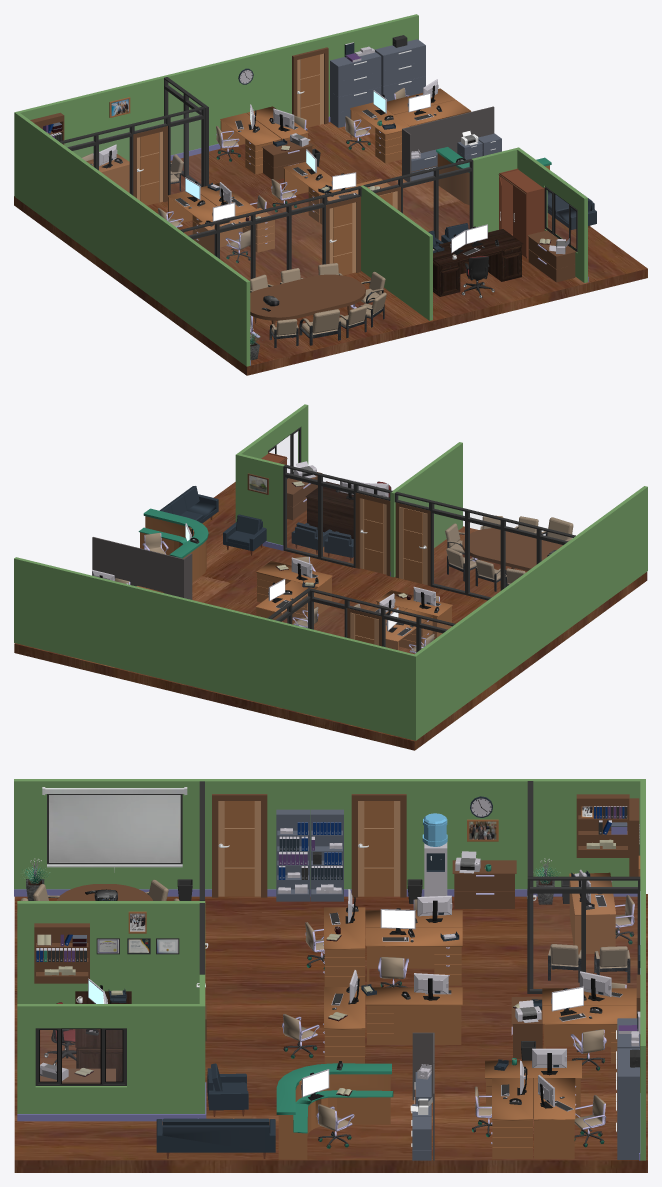
The model's file is office.glb.
3 renders of one model, top to bottom at view 1: azimuth 30°, elevation 25°; view 2: azimuth 150°, elevation 25°; view 3: azimuth 270°, elevation 25°, orthographic. The views are drawn at different scales.
Parts seen in each view (by area): view 1: Room_1, Floor_2, Room.002_460, Room.001_504, Meeting table_490, simple_desk.000_586, wardrobe_507, Door.001_401, Door.002_472, Door.010_22, Window_510, Reception_4 (+31 smaller); view 2: Room_1, Floor_2, Room.001_504, Room.002_460, Reception_4, Meeting table_490, Door.002_472, Door_600, Plane.006_5, simple_desk.000_586, Small wall_7, couch1_207 (+16 smaller); view 3: Floor_2, Room_1, Room.001_504, Room.002_460, Projector Screen_497, Reception_4, Window_510, couch1_207, Door.011_27, Door.009_17, Desk.010_247, Desk.016_320 (+56 smaller).
Boxes of the visible parts, left/top/right/bottom form: Room_1: left=14, top=14, right=418, bottom=366; Floor_2: left=14, top=122, right=647, bottom=375; Room.002_460: left=360, top=185, right=432, bottom=320; Room.001_504: left=472, top=147, right=587, bottom=282; Meeting table_490: left=250, top=274, right=365, bottom=320; simple_desk.000_586: left=433, top=229, right=523, bottom=296; wardrobe_507: left=498, top=168, right=544, bottom=258; Door.001_401: left=137, top=131, right=163, bottom=205; Door.002_472: left=329, top=202, right=356, bottom=275; Door.010_22: left=297, top=53, right=323, bottom=127; Window_510: left=544, top=186, right=577, bottom=252; Reception_4: left=436, top=147, right=551, bottom=204; Room_1: left=14, top=486, right=647, bottom=740; Floor_2: left=14, top=482, right=647, bottom=750; Room.001_504: left=235, top=404, right=308, bottom=545; Room.002_460: left=390, top=442, right=462, bottom=577; Reception_4: left=138, top=508, right=208, bottom=582; Meeting table_490: left=462, top=528, right=562, bottom=570; Door.002_472: left=399, top=507, right=427, bottom=585; Door_600: left=360, top=498, right=386, bottom=574; Plane.006_5: left=137, top=548, right=182, bottom=597; simple_desk.000_586: left=305, top=481, right=389, bottom=538; Small wall_7: left=92, top=537, right=137, bottom=586; couch1_207: left=159, top=486, right=218, bottom=523; Floor_2: left=14, top=894, right=647, bottom=1172; Room_1: left=14, top=779, right=645, bottom=1160; Room.001_504: left=17, top=974, right=205, bottom=1113; Room.002_460: left=17, top=901, right=205, bottom=1003; Projector Screen_497: left=42, top=787, right=187, bottom=872; Reception_4: left=276, top=1063, right=393, bottom=1159; Window_510: left=35, top=1028, right=126, bottom=1085; couch1_207: left=156, top=1118, right=275, bottom=1158; Door.011_27: left=218, top=801, right=260, bottom=896; Door.009_17: left=358, top=801, right=400, bottom=896; Desk.010_247: left=365, top=987, right=462, bottom=1044; Desk.016_320: left=534, top=1078, right=575, bottom=1158.
Size of what is drawn, in the model's own units: 10.1 by 2.25 by 10.12.
44 materials, 16 textured.
